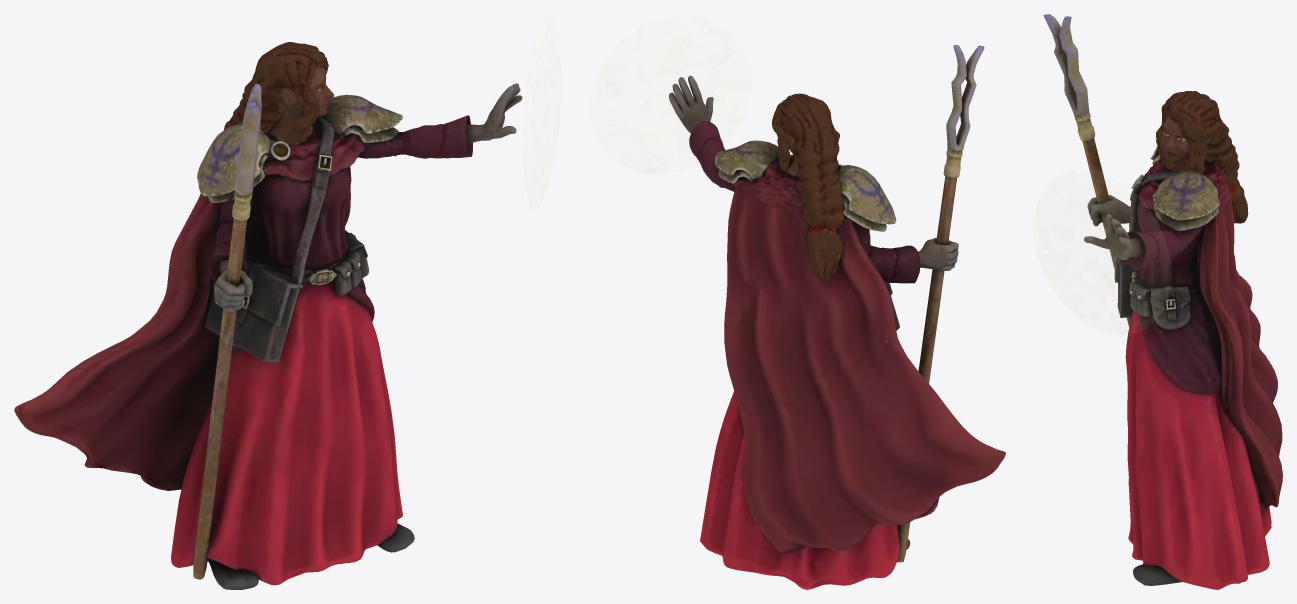
Rendered from MZ4250 - Human Female Abjuration Wizard with Shield spell_1.glb.
3 renders of one model, left to right at view 1: azimuth 30°, elevation 25°; view 2: azimuth 150°, elevation 25°; view 3: azimuth 270°, elevation 25°, orthographic. The views are drawn at different scales.
Parts seen in each view (by area): view 1: HFA_1; view 2: HFA_1; view 3: HFA_1.
Boxes of the visible parts, x1,y1,x2,y2 form: HFA_1: (14, 42, 522, 589); HFA_1: (669, 45, 1005, 589); HFA_1: (1043, 14, 1282, 589).
Size of the model in its own units: 2103 by 2220 by 998.
2 materials, 2 textured.
